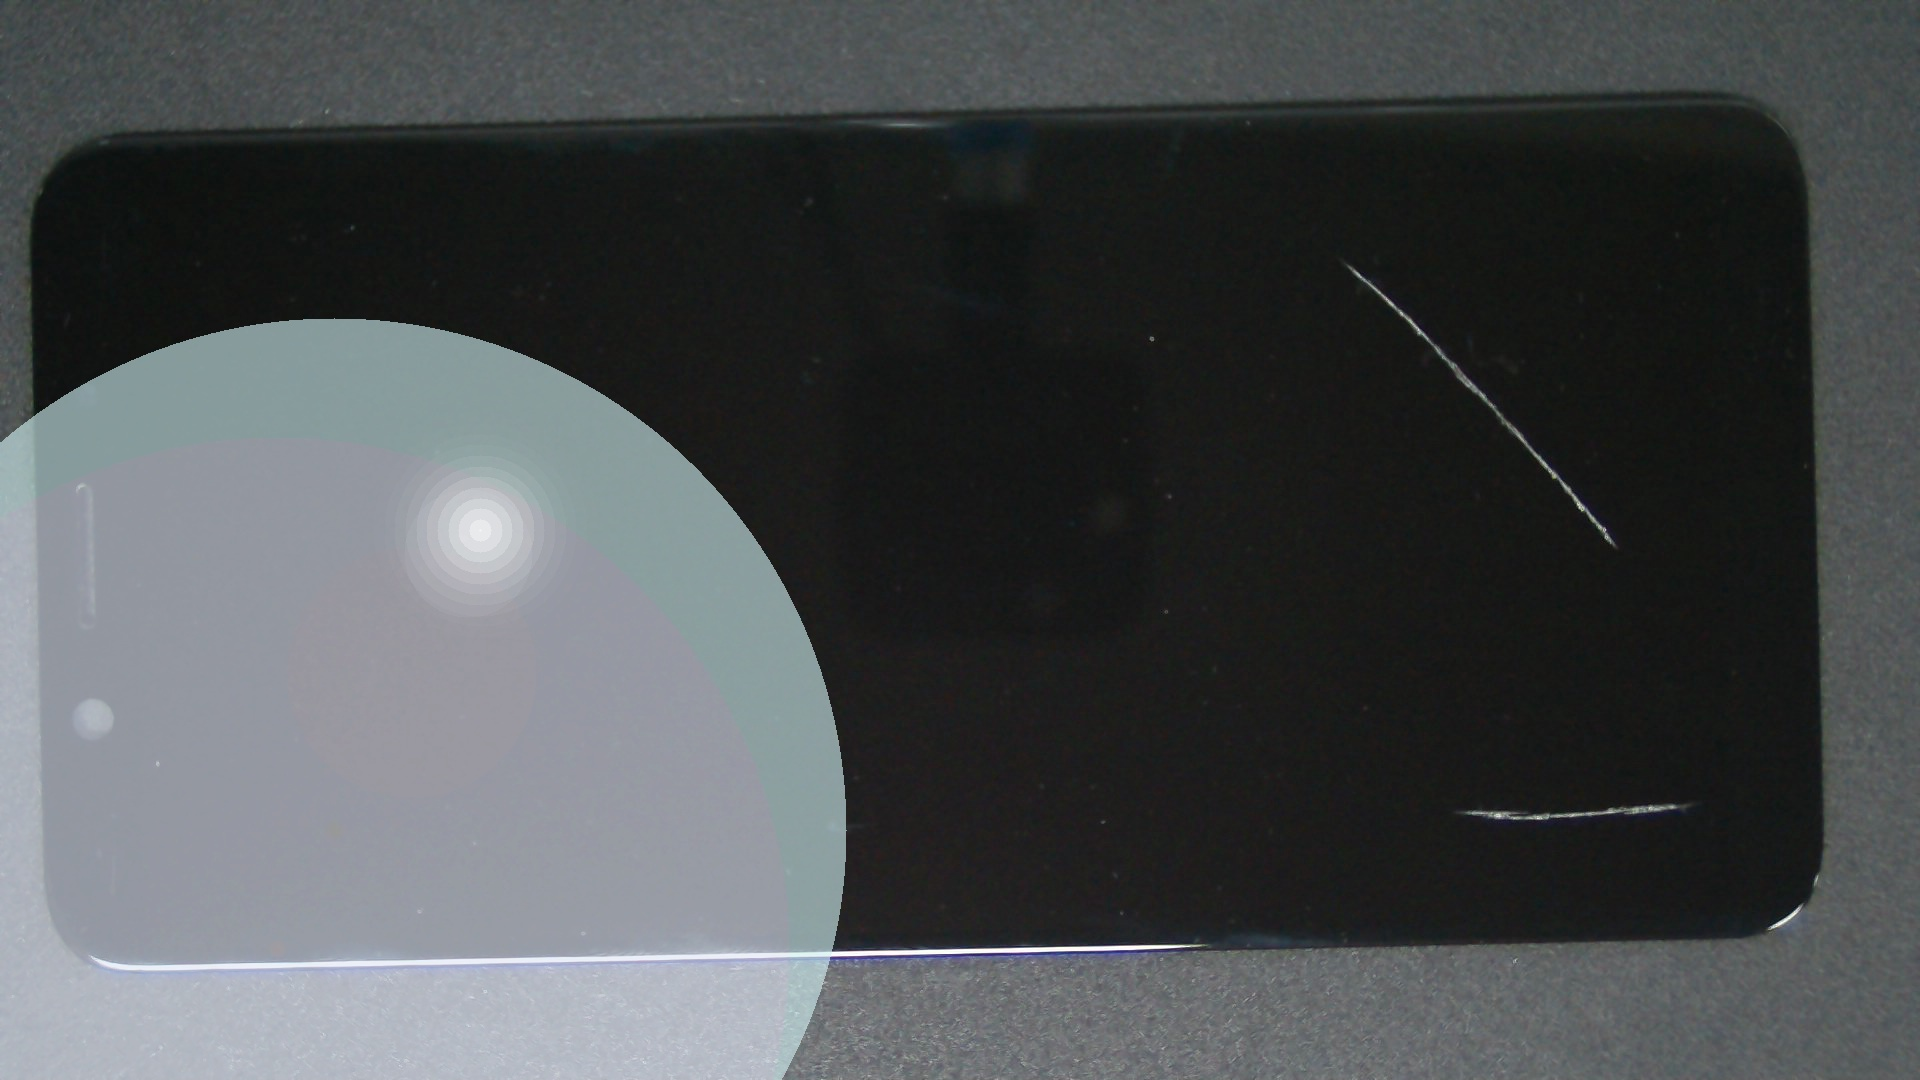oil: (833, 401, 1920, 1080), (671, 131, 1920, 394)
